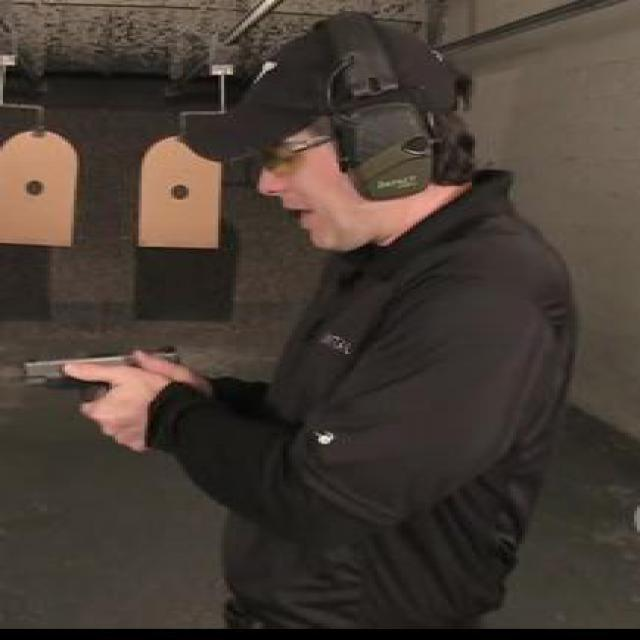Gun: (15, 344, 183, 433)
